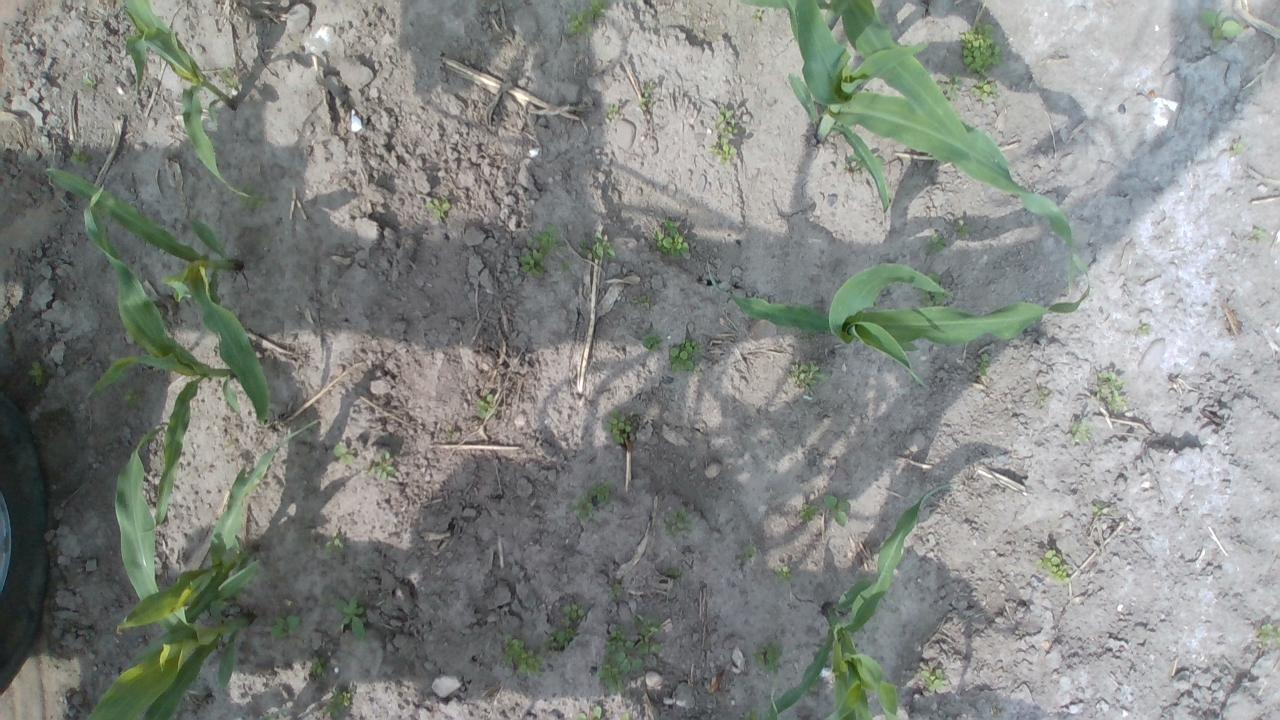Maize: (786, 0, 1078, 293), (38, 164, 275, 422), (80, 183, 243, 524), (704, 248, 1093, 390), (88, 424, 260, 720), (738, 0, 1022, 166), (762, 482, 952, 720), (116, 419, 317, 622), (120, 0, 252, 200)
Weeds: (597, 613, 663, 695), (518, 222, 564, 281), (958, 20, 1004, 73), (502, 632, 548, 678), (707, 108, 739, 164), (1199, 8, 1243, 48), (332, 595, 369, 641), (572, 480, 614, 520), (651, 220, 690, 259), (786, 361, 828, 396), (566, 0, 608, 35), (916, 272, 953, 308), (1034, 549, 1070, 584), (750, 638, 784, 674), (323, 686, 358, 720), (575, 231, 616, 260), (604, 408, 637, 444), (1095, 371, 1127, 408), (668, 340, 702, 374), (821, 492, 852, 526), (542, 626, 580, 652), (268, 612, 302, 639), (936, 71, 965, 102), (970, 74, 1001, 102), (664, 509, 693, 538), (238, 182, 268, 208), (373, 450, 397, 481), (920, 668, 949, 692), (332, 441, 358, 464), (424, 196, 450, 219), (840, 153, 866, 176), (561, 603, 586, 626), (476, 393, 498, 419), (1258, 622, 1280, 647), (1071, 418, 1092, 444), (217, 64, 239, 88), (324, 532, 347, 554), (68, 148, 91, 169), (972, 352, 991, 376), (310, 654, 328, 679), (574, 705, 604, 720), (641, 331, 663, 351), (924, 234, 949, 251), (952, 218, 972, 238), (124, 385, 142, 407), (774, 566, 794, 584), (798, 503, 818, 521), (736, 545, 756, 562), (630, 294, 650, 310), (28, 362, 44, 377), (744, 708, 762, 720), (1252, 226, 1268, 239), (797, 330, 814, 342), (1230, 142, 1246, 154), (1036, 388, 1048, 404), (610, 584, 623, 598), (750, 10, 764, 23), (606, 105, 620, 118), (1091, 501, 1103, 516), (82, 76, 96, 88), (560, 260, 571, 275), (666, 566, 682, 576), (875, 156, 887, 168), (638, 96, 651, 106), (643, 84, 654, 94), (1141, 323, 1150, 335), (620, 712, 631, 720)
